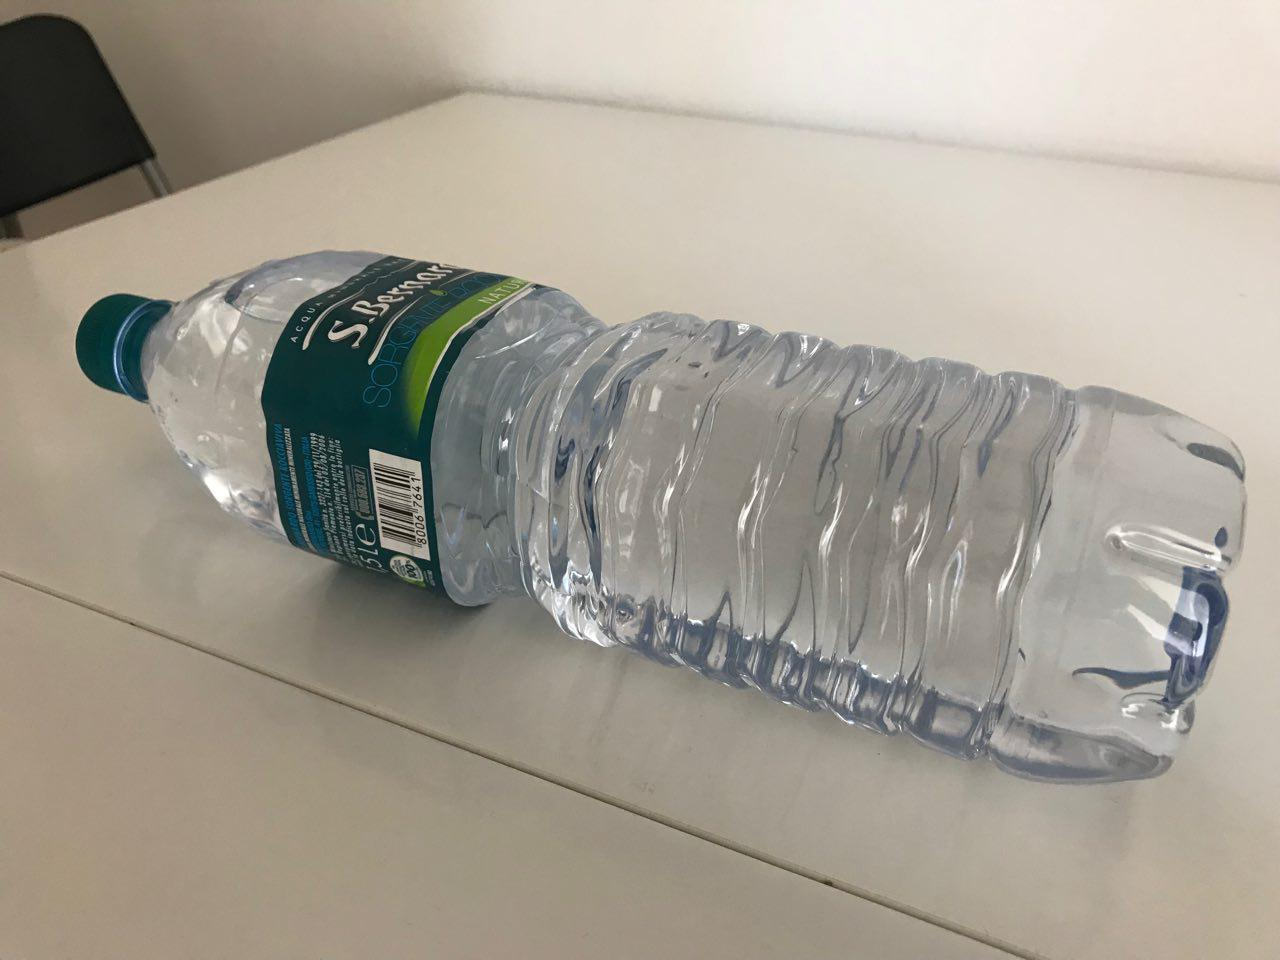san_bernardo: (73, 246, 1247, 789)
